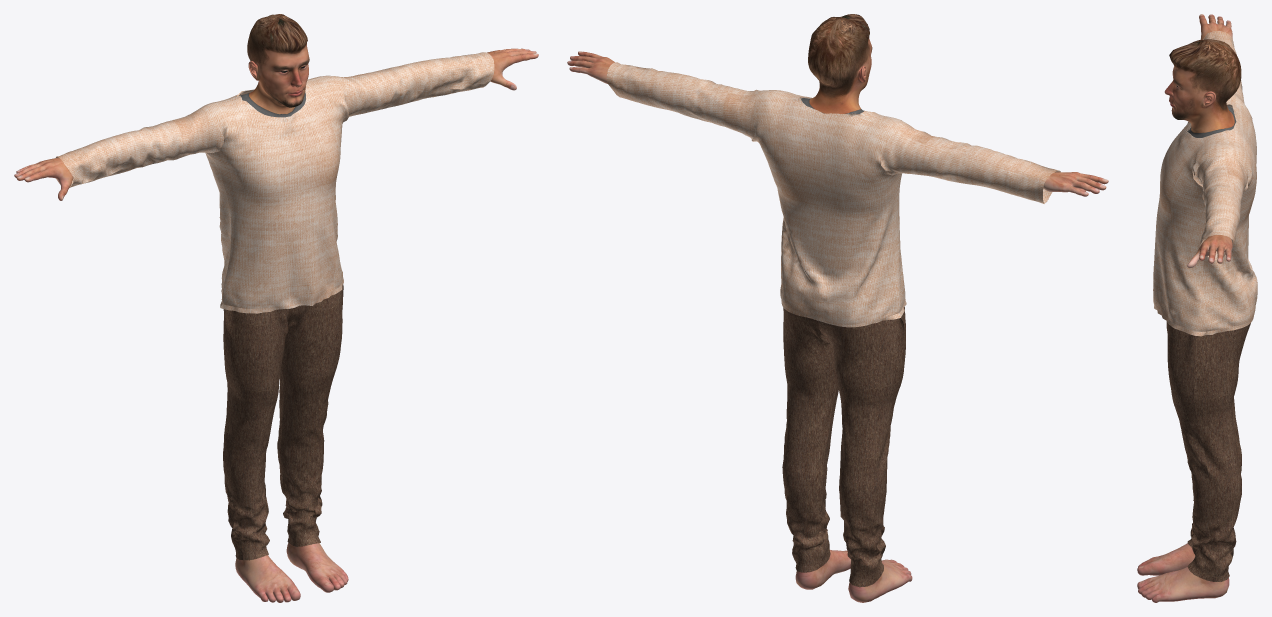
The model's file is TestCharachter.fbx.
3 views of the same model, side by side, from view 1: azimuth 30°, elevation 25°; view 2: azimuth 150°, elevation 25°; view 3: azimuth 270°, elevation 25° (orthographic). The views are drawn at different scales.
Visible parts, largest first — view 1: TestCharachter, H_DDS_HighRes; view 2: TestCharachter, H_DDS_HighRes; view 3: TestCharachter, H_DDS_HighRes.
Boxes of the visible parts, left/top/right/bottom form: TestCharachter: left=56, top=52, right=494, bottom=560; H_DDS_HighRes: left=14, top=14, right=538, bottom=602; TestCharachter: left=606, top=62, right=1060, bottom=587; H_DDS_HighRes: left=567, top=14, right=1108, bottom=602; TestCharachter: left=1153, top=31, right=1257, bottom=581; H_DDS_HighRes: left=1137, top=14, right=1241, bottom=602.
Size of the model in its own units: 1758 by 1796 by 362.
